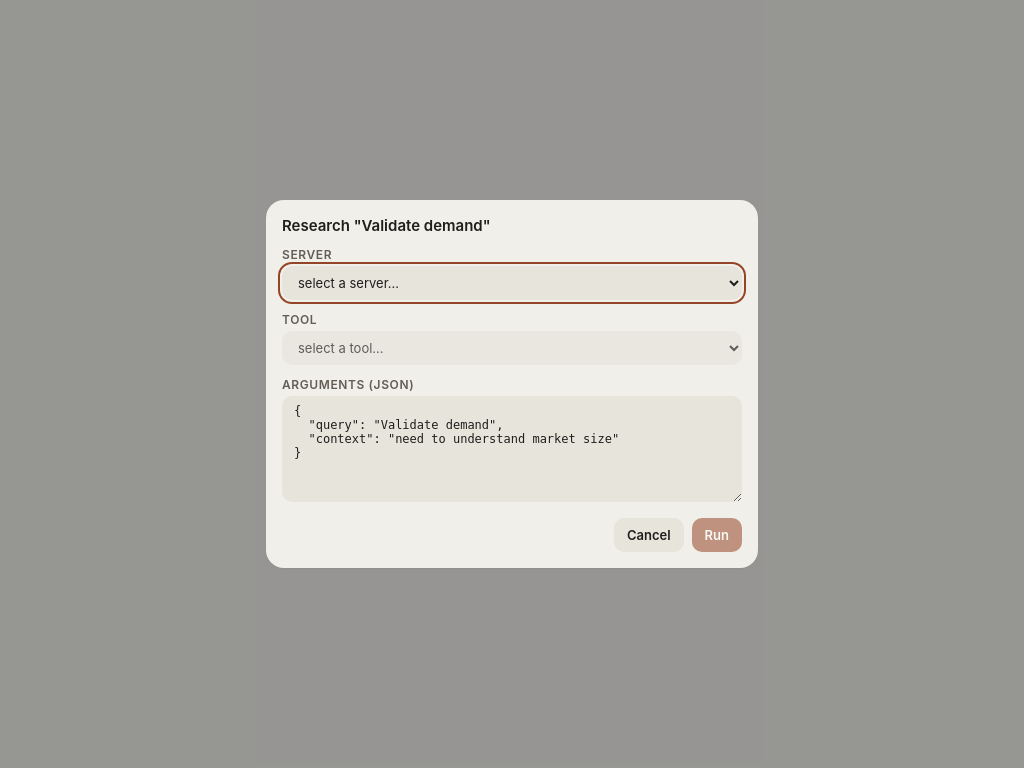
Test: ResearchRunDialog › a failed start shows the mapped error inline and does not close
Select "Prowl" in the dropdown with test id "research-run-server-select" at (512, 283), box [282,266,742,300]
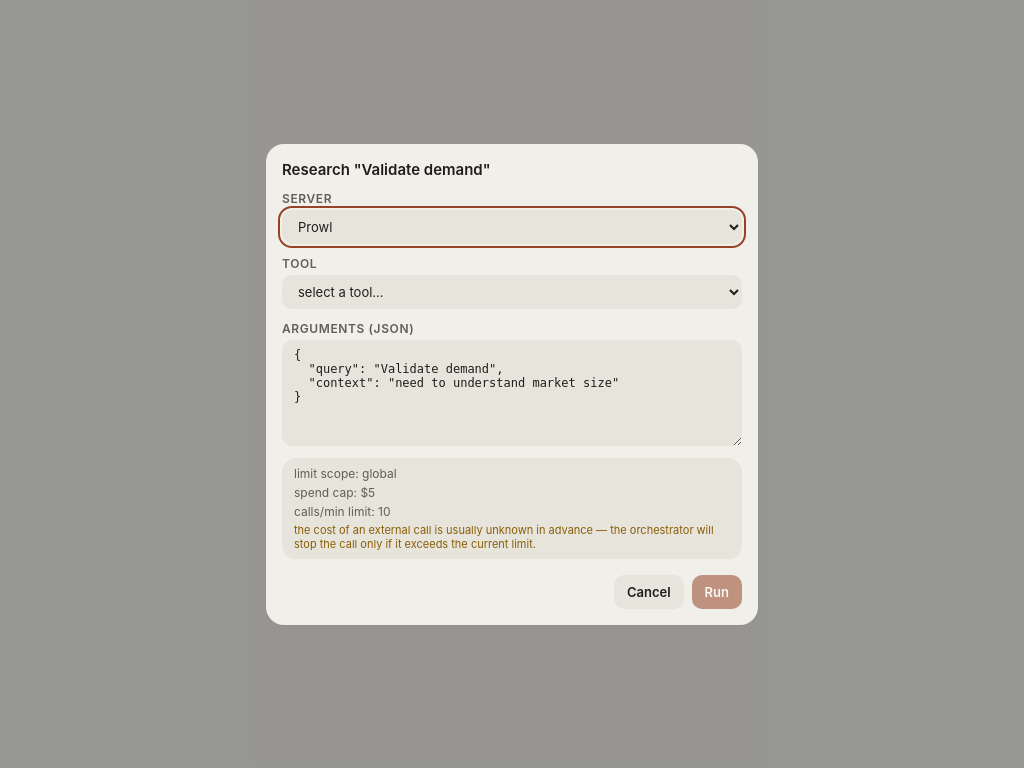
Select "Search" in the dropdown with test id "research-run-tool-select" at (512, 292), box [282,274,742,308]
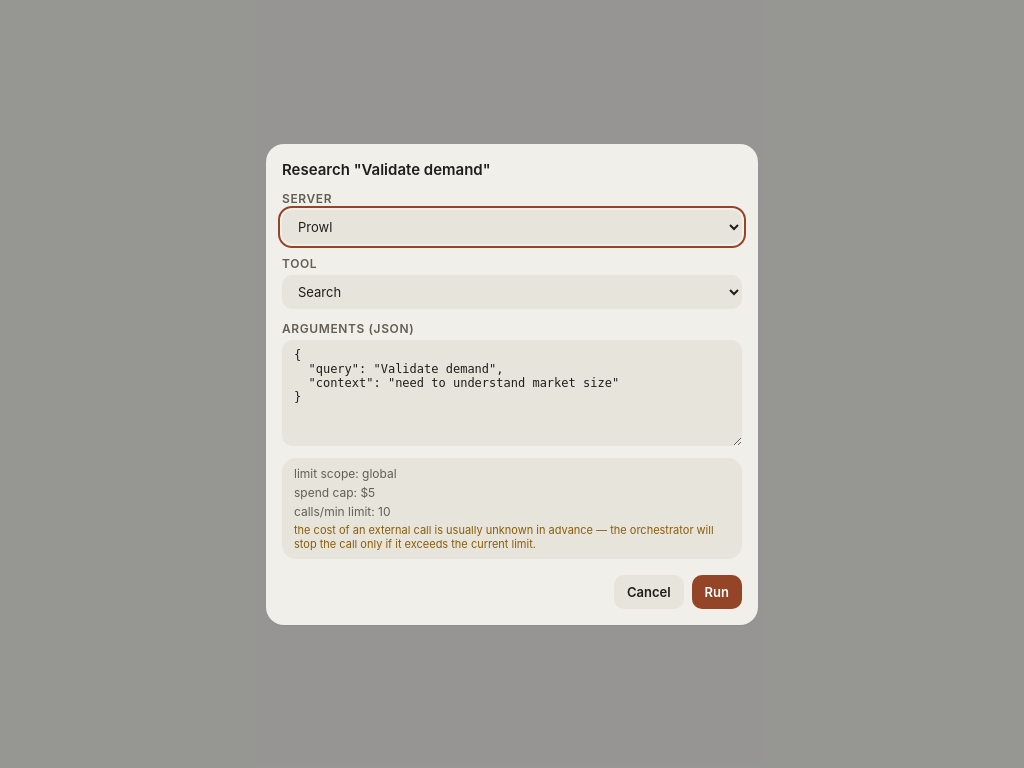
Click the button with test id "research-run-submit" at (717, 592), box [692,574,742,608]
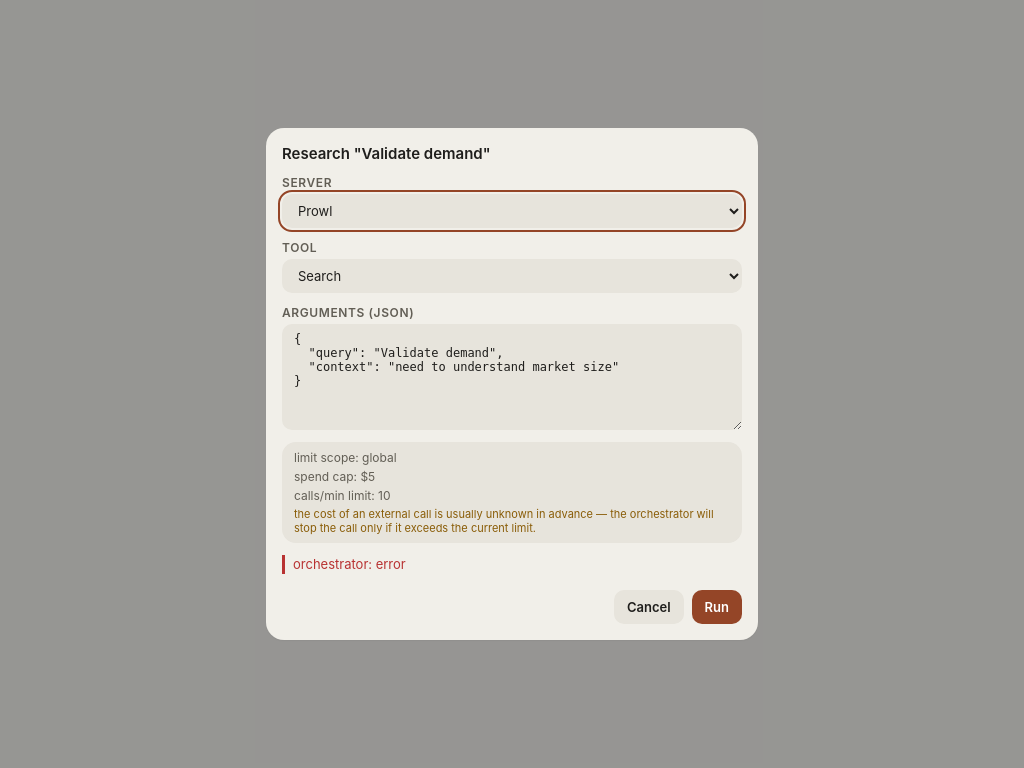
Expected: the message "orchestrator: error" is shown, [282,555,742,574]
